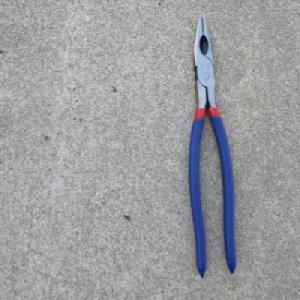Pliers: (186, 13, 236, 280)
